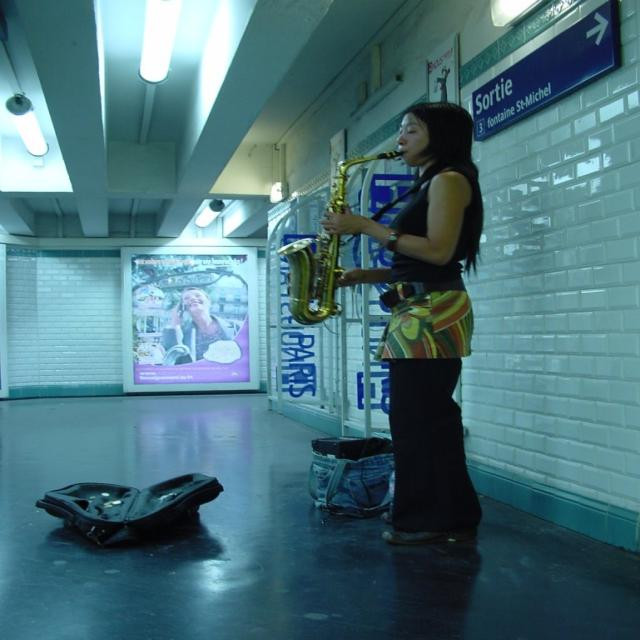saxophone: (271, 148, 404, 328)
